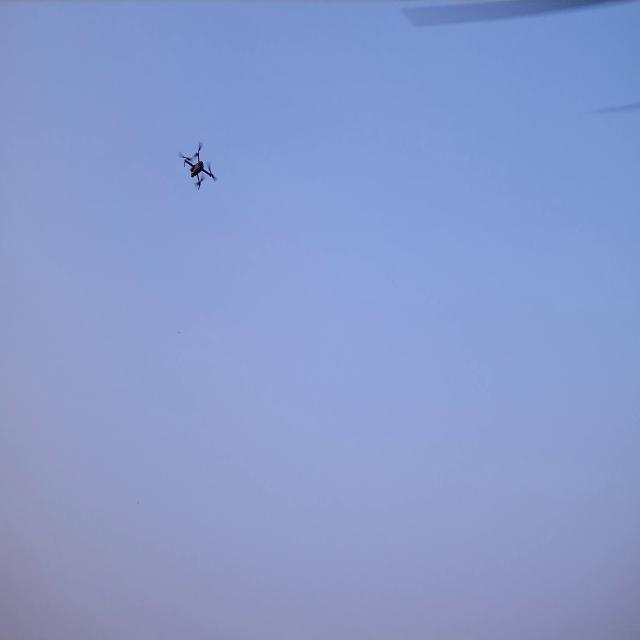UAV: (184, 148, 213, 189)
